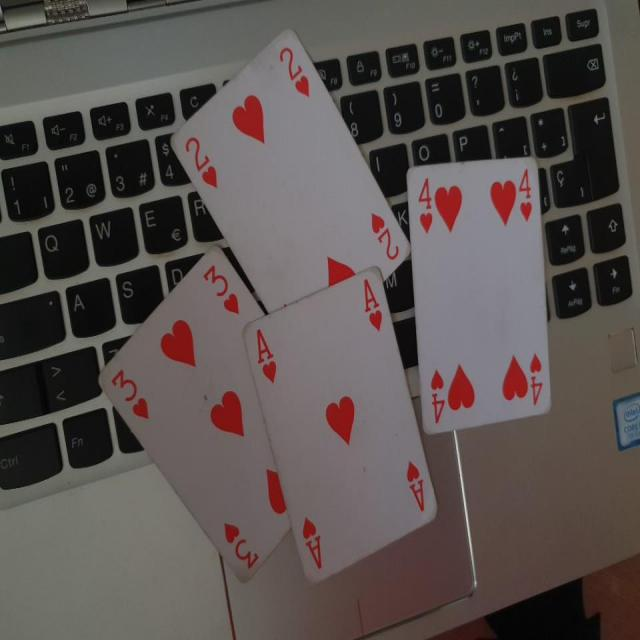2 Hearts: (166, 18, 416, 303)
3 Hearts: (93, 242, 297, 597)
4 Hearts: (397, 151, 564, 437)
A Hearts: (243, 260, 442, 594)
